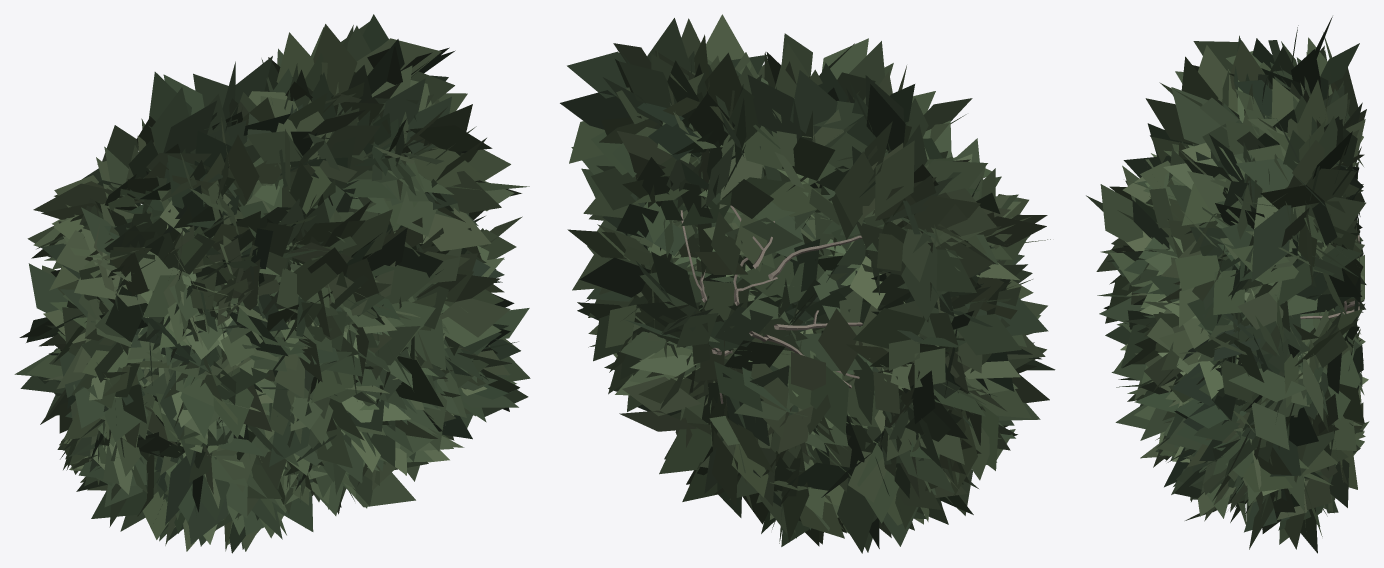
The model's file is tree_shrub_mid_01.obj.
3 renders of one model, left to right at view 1: azimuth 30°, elevation 25°; view 2: azimuth 150°, elevation 25°; view 3: azimuth 270°, elevation 25°, orthographic. The views are drawn at different scales.
Visible parts, largest first — view 1: tree_shrub_mid_01; view 2: tree_shrub_mid_01; view 3: tree_shrub_mid_01.
Part boxes in pixels (left/top/right/bottom): tree_shrub_mid_01: left=14, top=14, right=530, bottom=553; tree_shrub_mid_01: left=560, top=14, right=1055, bottom=553; tree_shrub_mid_01: left=1086, top=16, right=1369, bottom=553.
Bounding box in the file's own units: 2.16 × 2.13 × 1.12.
1 material, 1 textured.
